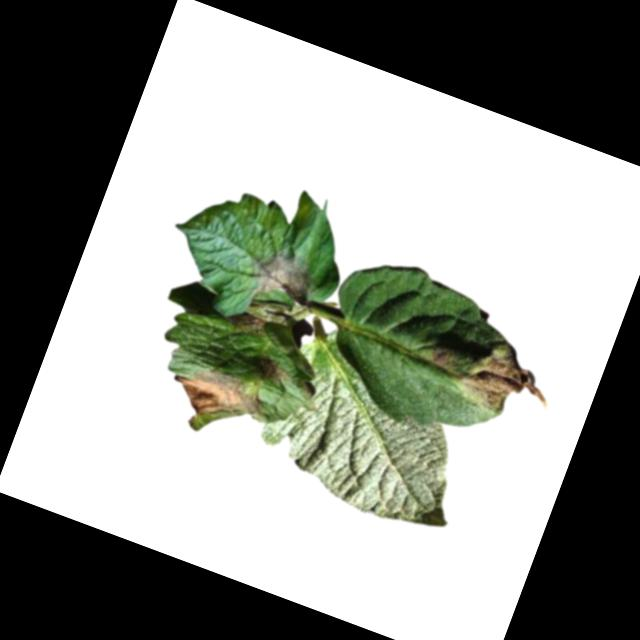Late_blight: (446, 329, 564, 433), (164, 356, 272, 437), (248, 241, 324, 314), (223, 307, 270, 341), (252, 353, 292, 387), (428, 343, 457, 371)
